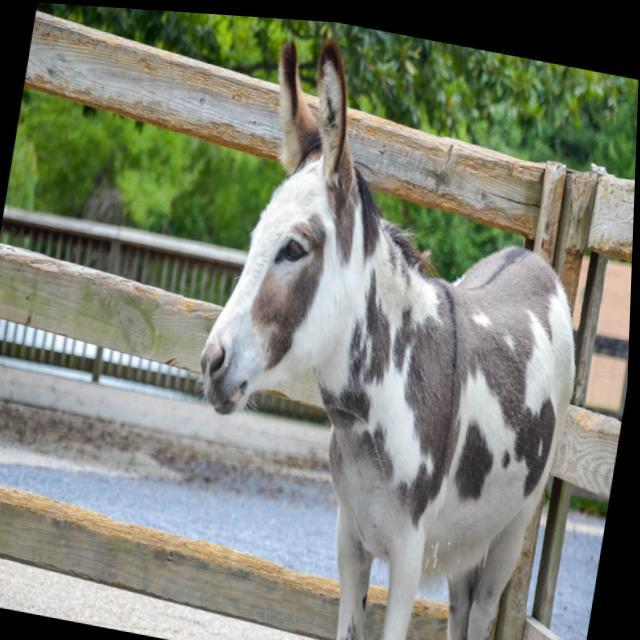Donkey: (174, 30, 623, 623)
